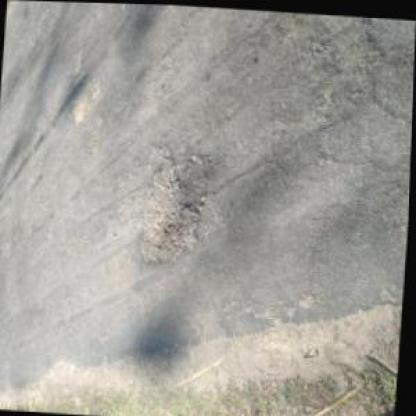pothole: (134, 140, 209, 269)
